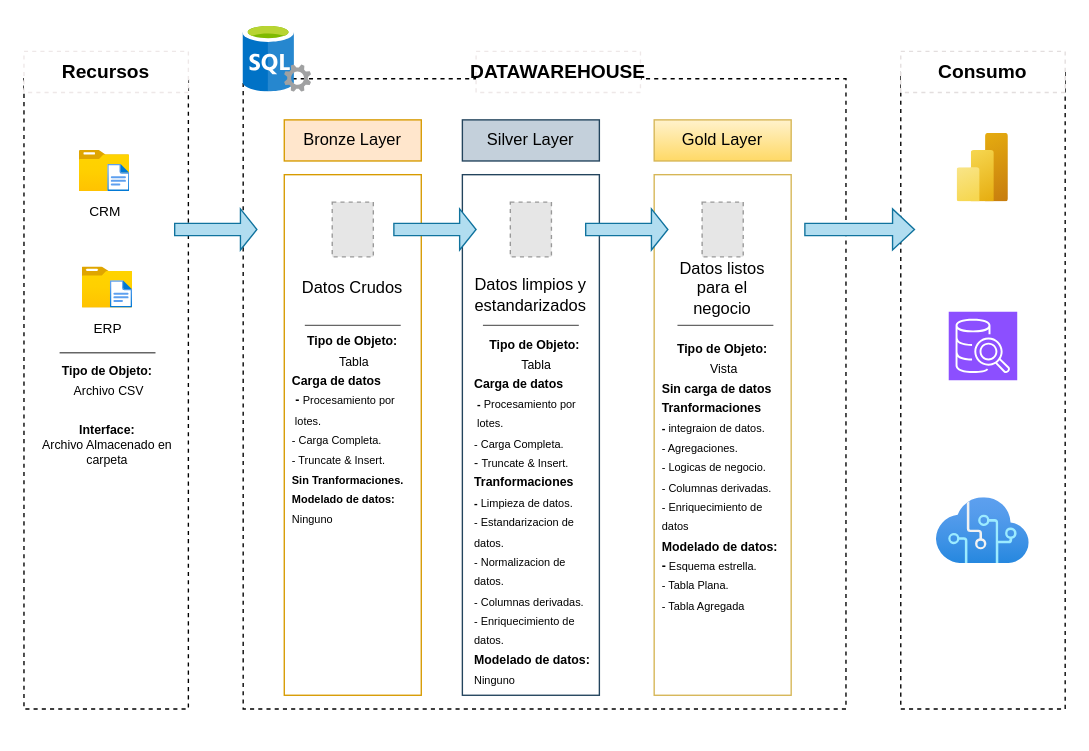
The diagram is 1089 pixels wide and 751 high, and some of its shapes have lost their labels. Grey dashed boxes stand in for pictures. Here are the shapes that lost their labels. From the top down, the box of each, then its label:
(957, 133, 1008, 201): BI & Reporting
(947, 310, 1017, 380): Ad - Hoc SQL Queries
(936, 497, 1029, 563): Machine Learning
